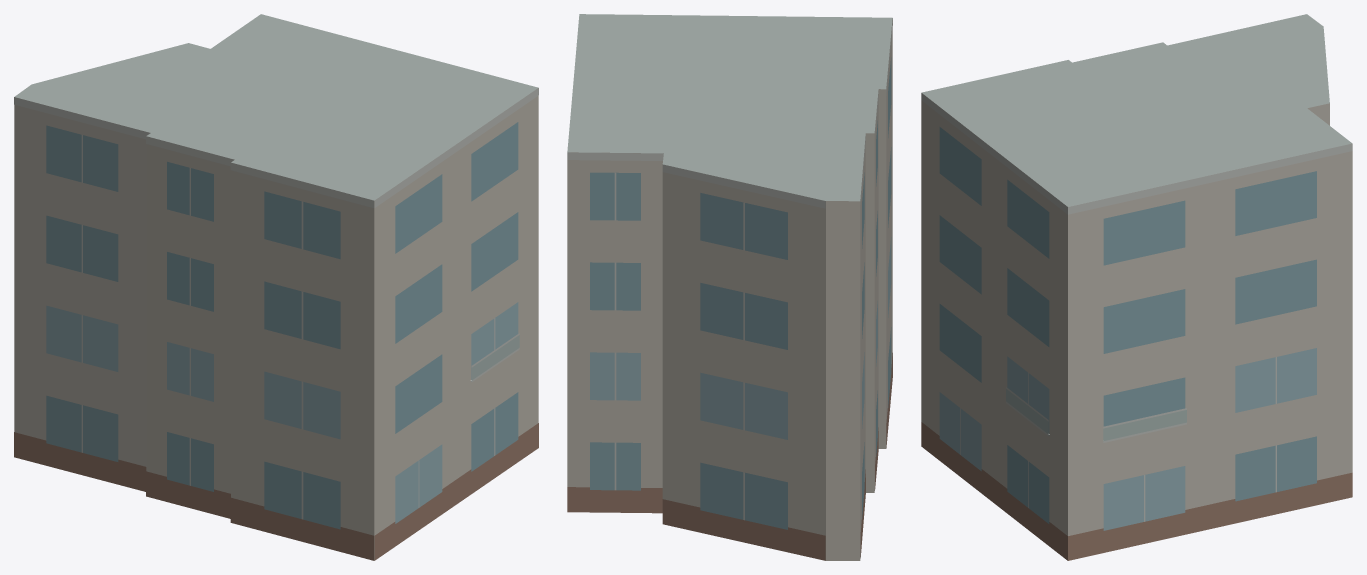
File: survey-upis-32991550.glb
The picture shows the model from 3 angles, left to right: view 1: azimuth 30°, elevation 25°; view 2: azimuth 150°, elevation 25°; view 3: azimuth 270°, elevation 25°; orthographic projection.
Parts seen in each view (by area): view 1: survey-upis-32991550.tmp; view 2: survey-upis-32991550.tmp; view 3: survey-upis-32991550.tmp.
Part boxes in pixels (bbox=[...]): survey-upis-32991550.tmp: bbox=[14, 14, 538, 560]; survey-upis-32991550.tmp: bbox=[567, 14, 892, 560]; survey-upis-32991550.tmp: bbox=[921, 14, 1352, 560].
Bounding box in the file's own units: 13.36 × 11.4 × 12.6.
